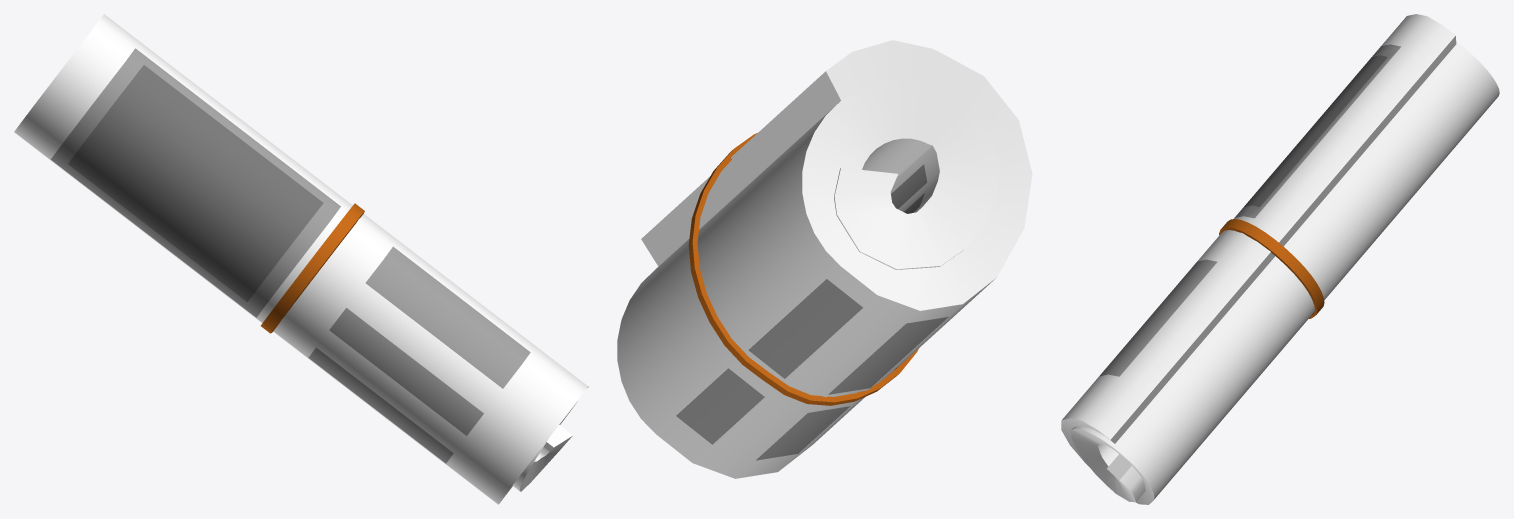
Rendered from rolled_up_newspaper.gltf.
3 renders of one model, left to right at view 1: azimuth 30°, elevation 25°; view 2: azimuth 150°, elevation 25°; view 3: azimuth 270°, elevation 25°, orthographic. The views are drawn at different scales.
Visible parts, largest first — view 1: Cylinder.502; view 2: Cylinder.502; view 3: Cylinder.502.
Part boxes in pixels (x1=…): Cylinder.502: x1=14, y1=14, x2=588, y2=504; Cylinder.502: x1=617, y1=40, x2=1032, y2=478; Cylinder.502: x1=1061, y1=14, x2=1499, y2=504.
Bounding box in the file's own units: 2.19 × 2.26 × 2.37.
Materials: 1 (1 with a texture image).
